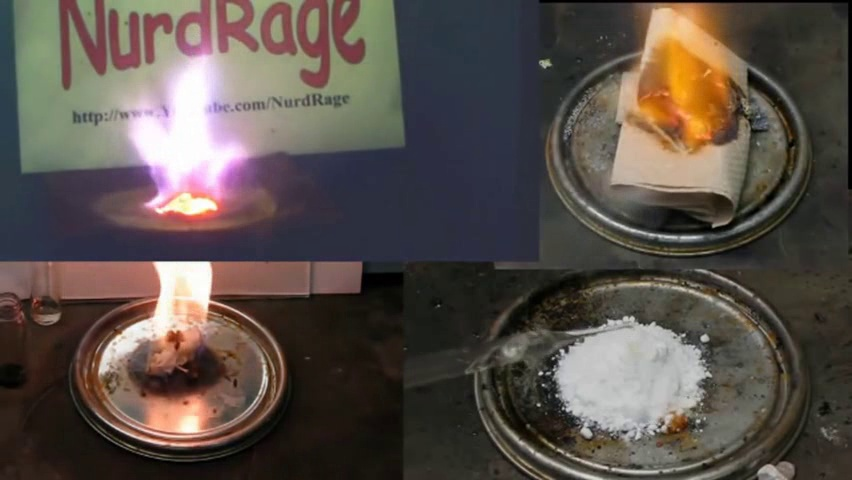fire: (120, 55, 251, 217), (623, 1, 756, 152), (141, 244, 217, 376)
